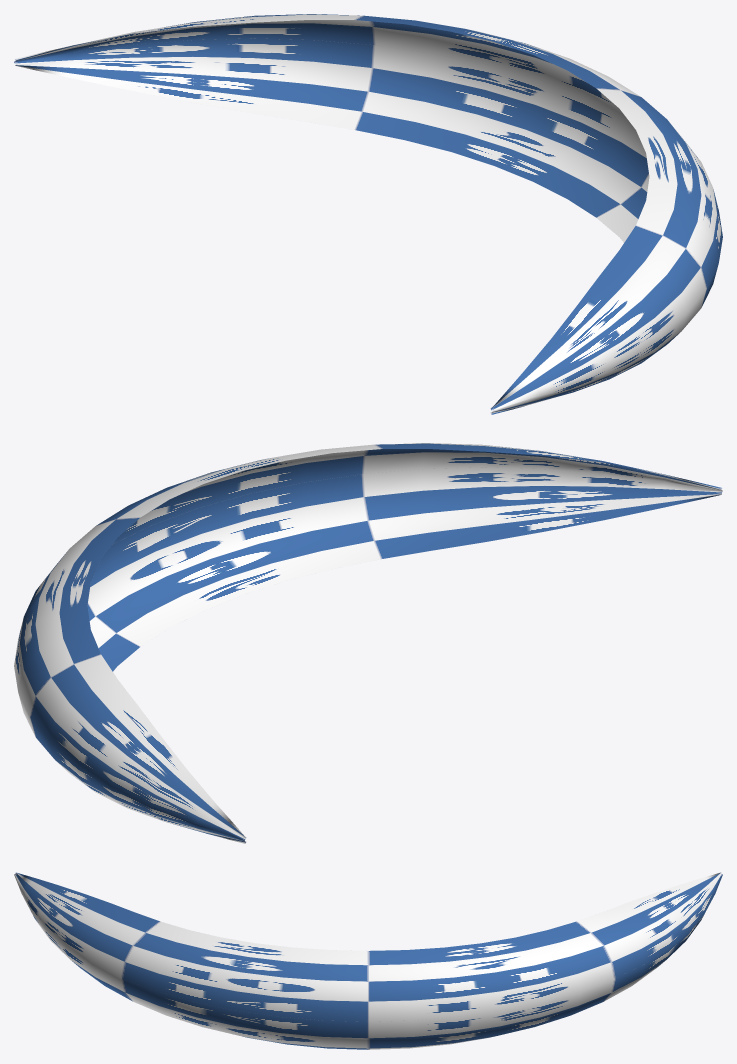
File: Rui_Spl_Slash01.fbx
3 renders of one model, top to bottom at view 1: azimuth 30°, elevation 25°; view 2: azimuth 150°, elevation 25°; view 3: azimuth 270°, elevation 25°, orthographic. The views are drawn at different scales.
Parts seen in each view (by area): view 1: SM_d_e_P1007_V00_C00_SplKrt_c030_Slash_01; view 2: SM_d_e_P1007_V00_C00_SplKrt_c030_Slash_01; view 3: SM_d_e_P1007_V00_C00_SplKrt_c030_Slash_01.
Boxes of the visible parts, x1,y1,x2,y2 form: SM_d_e_P1007_V00_C00_SplKrt_c030_Slash_01: (14, 14, 722, 414); SM_d_e_P1007_V00_C00_SplKrt_c030_Slash_01: (14, 443, 722, 843); SM_d_e_P1007_V00_C00_SplKrt_c030_Slash_01: (14, 872, 722, 1049).
Bounding box in the file's own units: 240 × 73.02 × 489.
1 material, 1 textured.
